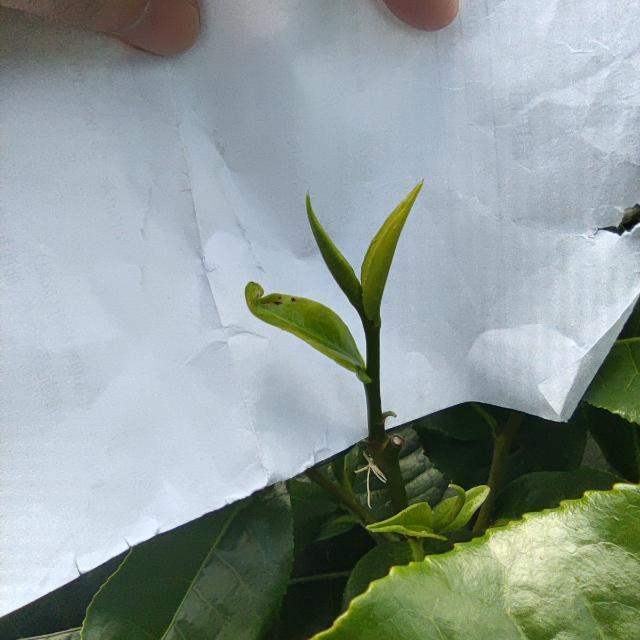Stem: (366, 324, 380, 339)
